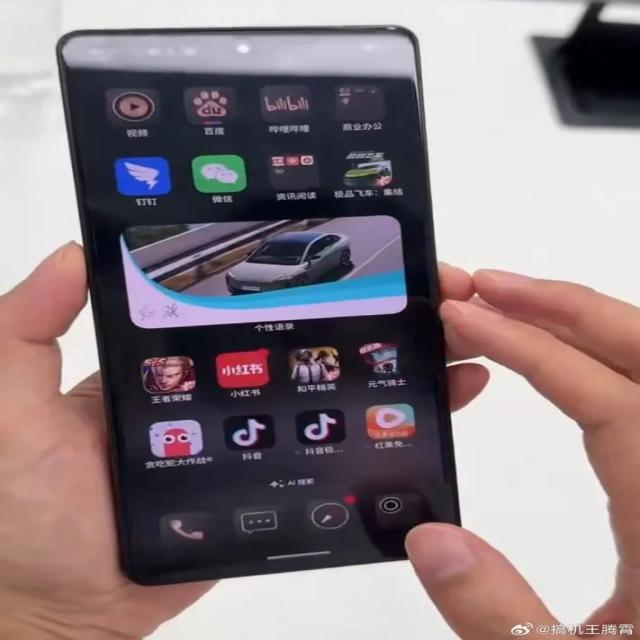mobile_phone: (47, 0, 524, 589)
